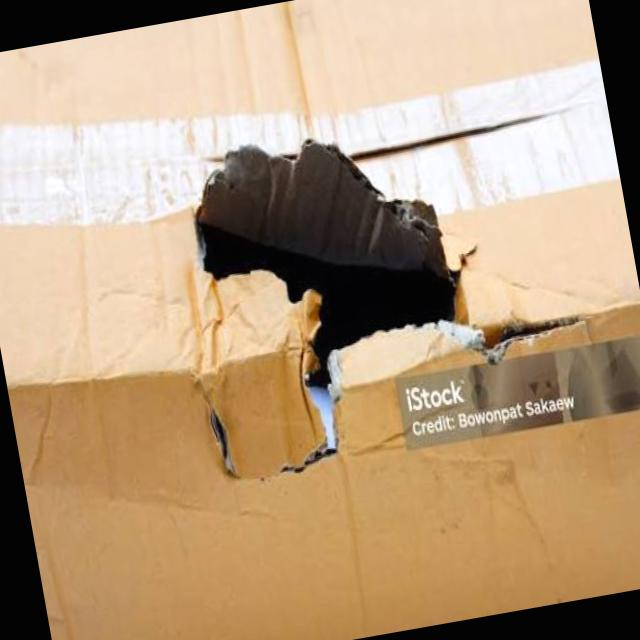package_damage: (121, 97, 596, 504)
